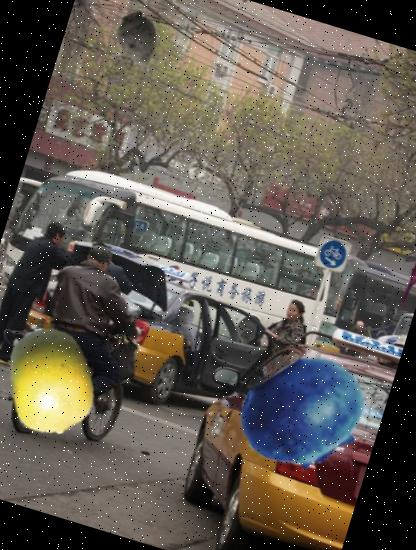Beetroot: (100, 3, 180, 84)
Huckleberry: (224, 334, 384, 493)
Pomelo: (0, 313, 119, 447)
